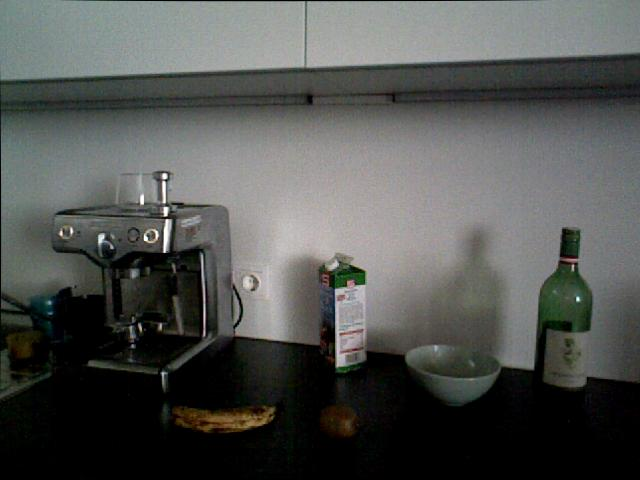bench: (532, 226, 593, 394), (315, 249, 371, 376)
bird: (404, 343, 501, 406)
handbag: (113, 169, 178, 216), (67, 290, 106, 343), (26, 290, 65, 341)
motorcycle: (151, 392, 282, 441)
